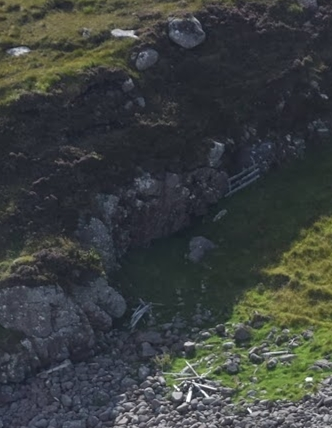cuboid: (224, 161, 269, 198)
white_in_green: (96, 1, 156, 56)
wood_together: (165, 357, 225, 408), (121, 292, 168, 335)
